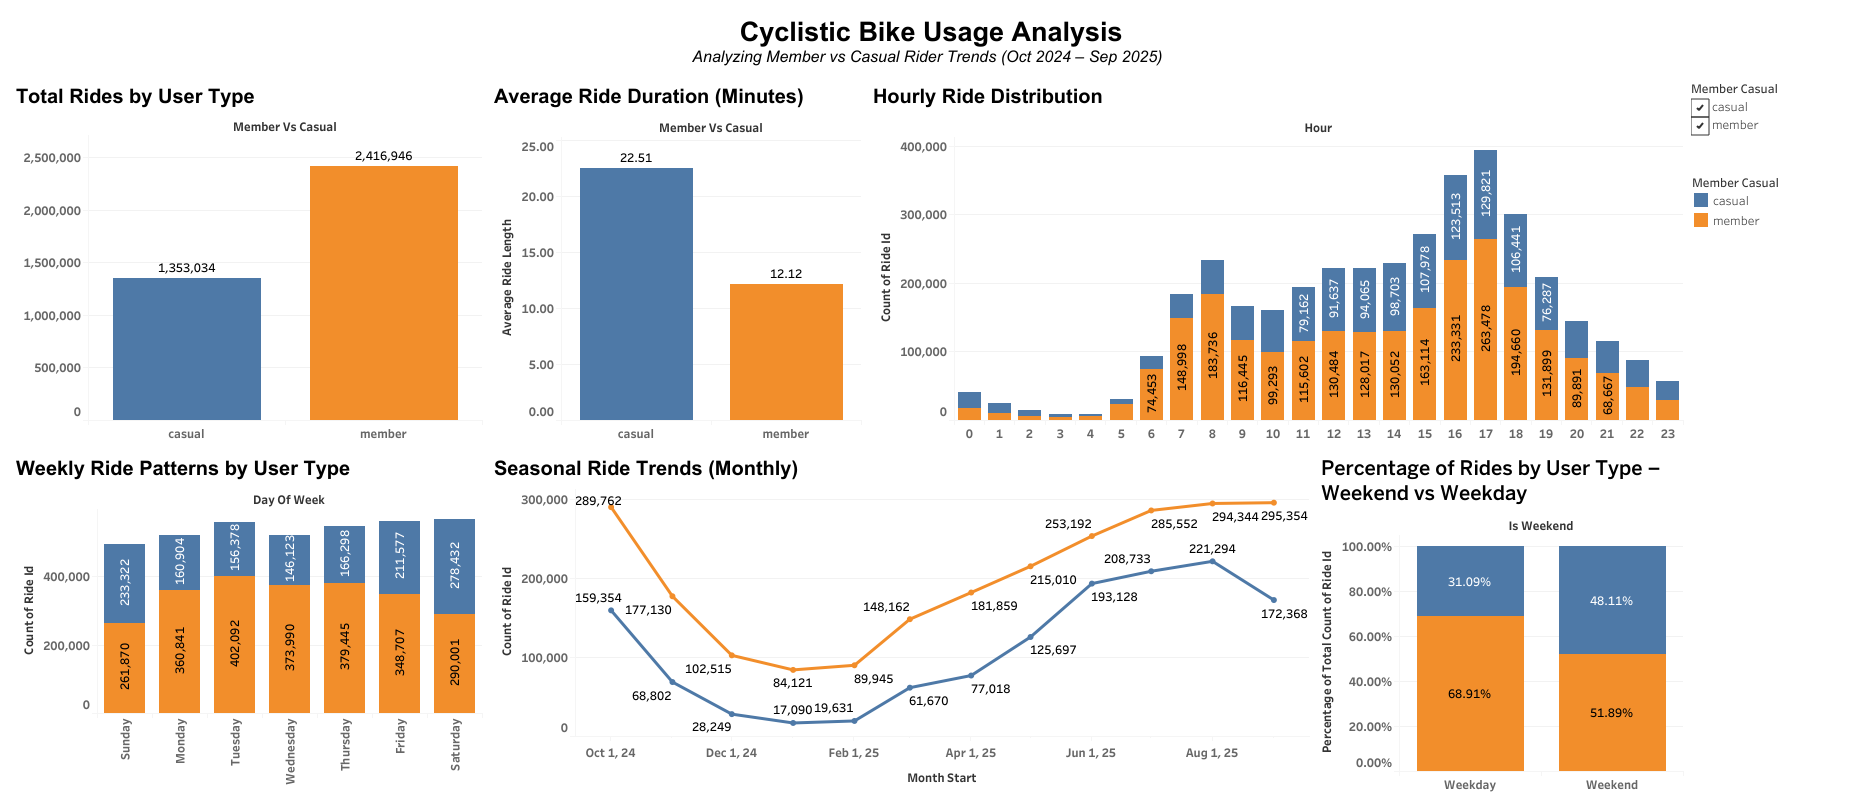

Layout of this report page (visuals, bound fields, positions):
{"tool":"tableau","page":{"name":"Dashboard 1","canvas":[1000,1000],"units":"permille","ordinal":0},"visuals":[{"type":"text","box":[4.7,9.3,990.6,81.7]},{"type":"worksheet","title":"Member vs Casual Rides","mark":"Automatic","rows":["ride_id"],"cols":["Calculation_981784783112286208"],"box":[4.7,91.1,255.6,462.6]},{"type":"worksheet","title":"Avg Ride Length","mark":"Automatic","rows":["ride_length"],"cols":["Calculation_981784783112409089"],"box":[260.3,91.1,202.4,462.6]},{"type":"worksheet","title":"Hourly Rides","mark":"Automatic","rows":["ride_id"],"cols":["hour"],"box":[462.7,91.1,439.1,462.6]},{"type":"filter","title":"Member vs Casual Rides","param":"[federated.0al3rkp12duj7g129eamd0dza3gk].[none:member_casual:nk]","box":[901.7,91.1,93.6,104]},{"type":"legend","title":"Member vs Casual Rides","param":"[federated.0al3rkp12duj7g129eamd0dza3gk].[none:member_casual:nk]","box":[901.7,195.1,93.6,77.1]},{"type":"worksheet","title":"Rides by Day of Week","mark":"Automatic","rows":["ride_id"],"cols":["day_of_week"],"box":[4.7,553.6,255.5,437]},{"type":"worksheet","title":"Monthly Trends","mark":"Automatic","rows":["ride_id"],"cols":["Calculation_1801158437623349248"],"box":[260.2,553.6,441.8,437]},{"type":"worksheet","title":"Sheet 7","mark":"Automatic","cols":["is_weekend"],"box":[702,553.6,199.7,437]}]}

Visuals, with their boxes on the dashboard's canvas, which has no fixed pixel size, in thousandths of its width and height (x1, y1, x2, y2). These are canvas units, not pixel positions in the 1854x804 screenshot, which may show the page scaled, cropped or inside an application window:
text: [5, 9, 995, 91]
"Member vs Casual Rides" worksheet: [5, 91, 260, 554]
"Avg Ride Length" worksheet: [260, 91, 463, 554]
"Hourly Rides" worksheet: [463, 91, 902, 554]
"Member vs Casual Rides" filter: [902, 91, 995, 195]
"Member vs Casual Rides" legend: [902, 195, 995, 272]
"Rides by Day of Week" worksheet: [5, 554, 260, 991]
"Monthly Trends" worksheet: [260, 554, 702, 991]
"Sheet 7" worksheet: [702, 554, 902, 991]
